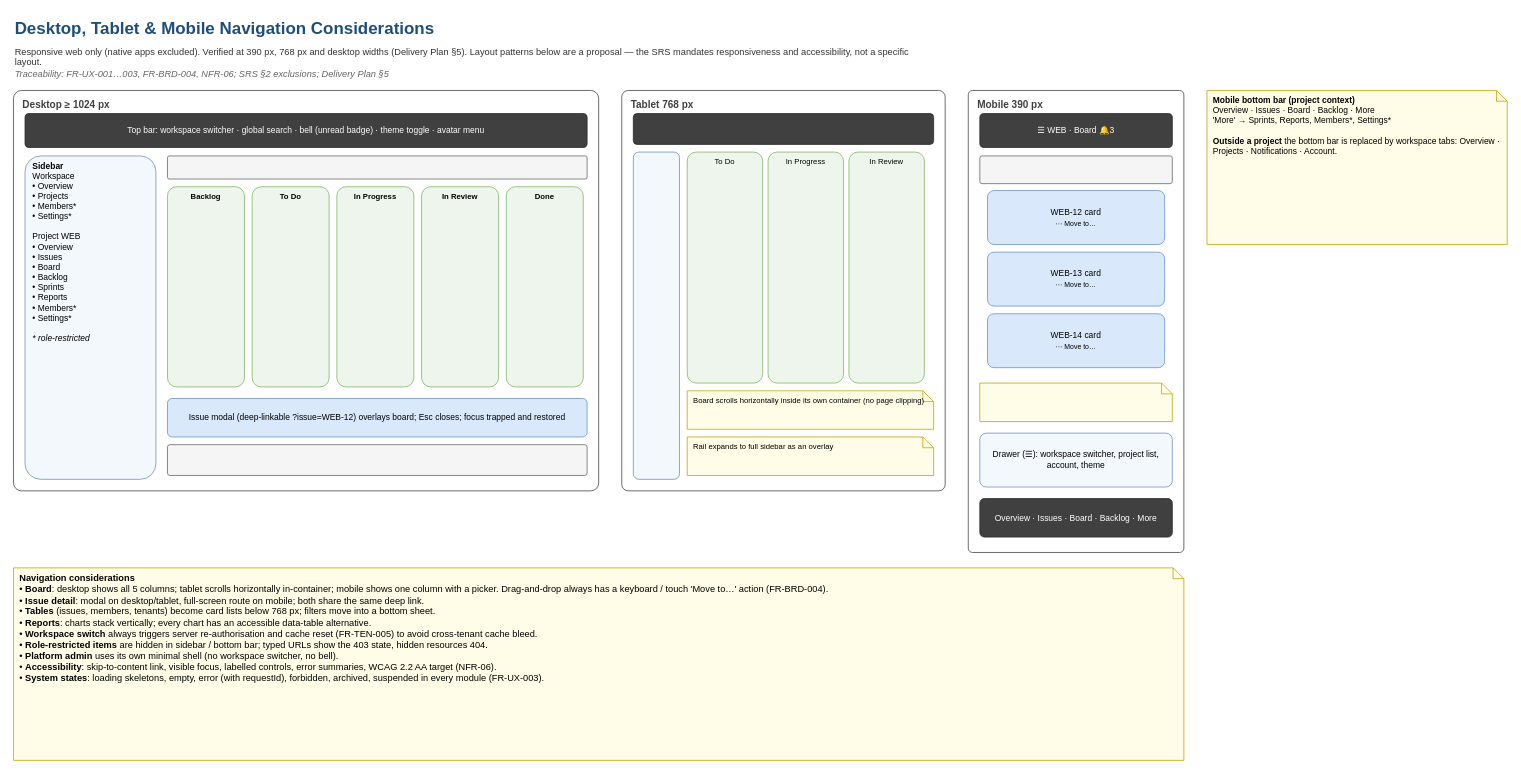
The diagram is 1521 pixels wide and 774 high, and some of its shapes have lost their labels. The shapes that lost their labels are listed below. From the top down, each one's centre as x and y in pixels, then its label:
the point at 783,128: Top bar (search collapses to icon)
the point at 377,167: Breadcrumb: Workspace / Project / Board
the point at 1075,169: Column picker: ◀ In Progress (4) ▶
the point at 656,315: Icon rail ⌂ ▤ ▦ ☰ ▲
the point at 1075,402: Issue opens as full-screen route (not modal)
the point at 377,459: Filters bar: assignee · priority · label · type
